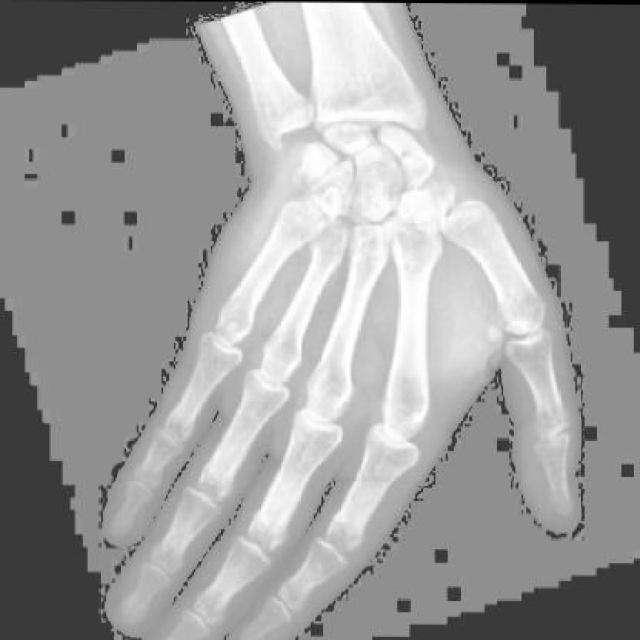Fracture: (386, 135, 431, 174)
